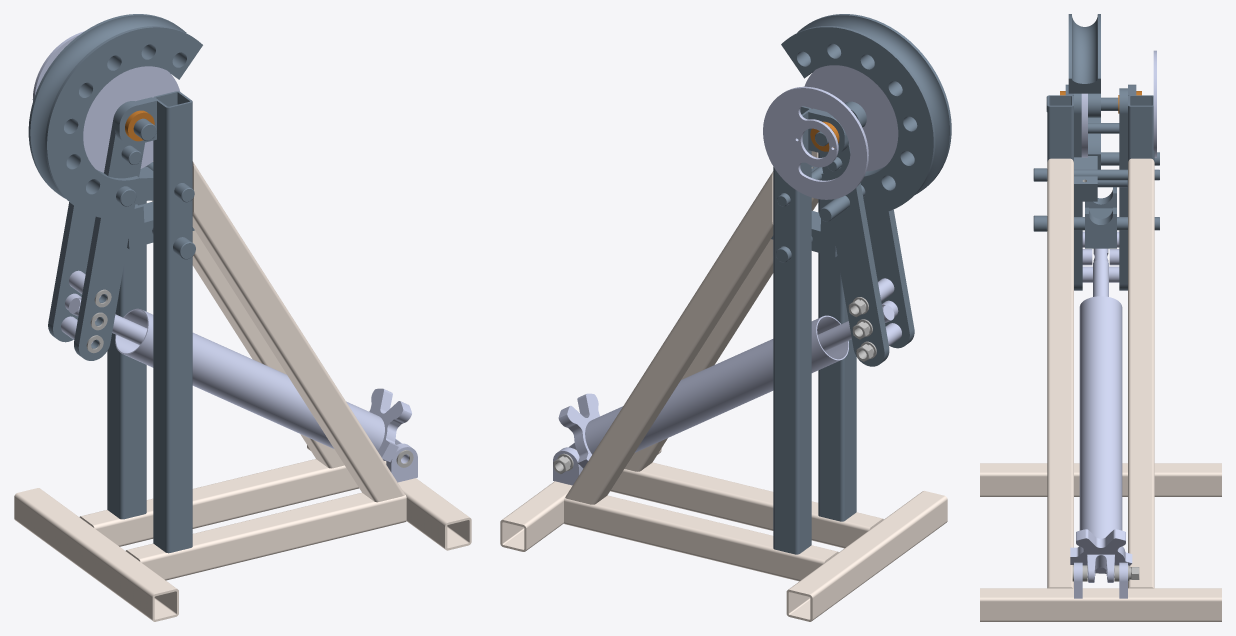
The model's file is Hydraulic_Pipe_Bending_Machine.glb.
3 renders of one model, left to right at view 1: azimuth 30°, elevation 25°; view 2: azimuth 150°, elevation 25°; view 3: azimuth 270°, elevation 25°, orthographic. The views are drawn at different scales.
Parts seen in each view (by area): view 1: Труба 50х50-1 (×2), ТР3848.01.00.01-1, Труба 50х50 подкос-1, Гильза цилиндра-1, Труба 50х50 продольная-1, Труба 50х50 продольная-2, Труба 50х50 поперечная-1, ТГ1.00.00.01-1, ТР3848.01.00.04-1, Труба 50х50 подкос-2, Труба 50х50 поперечная-2, ТГ1.00.00.01-2 (+4 smaller); view 2: Труба 50х50-1 (×2), ТР3848.01.00.01-1, Труба 50х50 подкос-2, Гильза цилиндра-1, Труба 50х50 продольная-2, Труба 50х50 продольная-1, Труба 50х50 поперечная-1, Угломер-1, ТГ1.00.00.01-2, ТР3848.01.00.04-1, Труба 50х50 подкос-1, ТГ1.00.00.01-1 (+5 smaller); view 3: Гильза цилиндра-1, Труба 50х50 подкос-1, Труба 50х50 подкос-2, Труба 50х50 поперечная-2, Труба 50х50 поперечная-1, Труба 50х50-1 (×2), ТР3848.01.00.01-1, ТР3848.00.00.01-2, ТГ1.00.00.01-2, ТГ1.00.00.01-1, ТР3848.01.00.03-1, ТГ1.00.00.03-4 (+6 smaller).
Part boxes in pixels (x1,y1,x2,y2): Труба 50х50-1 (×2): (107, 91, 192, 553); ТР3848.01.00.01-1: (28, 14, 202, 219); Труба 50х50 подкос-1: (192, 161, 405, 502); Гильза цилиндра-1: (115, 308, 411, 462); Труба 50х50 продольная-1: (126, 492, 406, 580); Труба 50х50 продольная-2: (79, 459, 358, 546); Труба 50х50 поперечная-1: (14, 488, 178, 621); ТГ1.00.00.01-1: (74, 101, 144, 360); ТР3848.01.00.04-1: (83, 66, 180, 172); Труба 50х50 подкос-2: (152, 161, 344, 468); Труба 50х50 поперечная-2: (307, 445, 471, 550); ТГ1.00.00.01-2: (48, 202, 95, 342); Труба 50х50-1 (×2): (773, 106, 856, 554); ТР3848.01.00.01-1: (781, 14, 951, 214); Труба 50х50 подкос-2: (565, 171, 773, 504); Гильза цилиндра-1: (558, 315, 848, 468); Труба 50х50 продольная-2: (564, 495, 838, 581); Труба 50х50 продольная-1: (610, 462, 883, 548); Труба 50х50 поперечная-1: (786, 491, 947, 621); Угломер-1: (763, 86, 868, 199); ТГ1.00.00.01-2: (819, 143, 889, 366); ТР3848.01.00.04-1: (804, 65, 898, 171); Труба 50х50 подкос-1: (624, 151, 818, 471); ТГ1.00.00.01-1: (866, 209, 914, 348); Гильза цилиндра-1: (1070, 296, 1132, 582); Труба 50х50 подкос-1: (1047, 158, 1073, 587); Труба 50х50 подкос-2: (1128, 158, 1154, 587); Труба 50х50 поперечная-2: (980, 588, 1221, 621); Труба 50х50 поперечная-1: (980, 463, 1221, 496); Труба 50х50-1 (×2): (1047, 95, 1154, 161); ТР3848.01.00.01-1: (1068, 14, 1100, 169); ТР3848.00.00.01-2: (1085, 187, 1116, 248); ТГ1.00.00.01-2: (1119, 88, 1127, 290); ТГ1.00.00.01-1: (1074, 93, 1082, 290); ТР3848.01.00.03-1: (1074, 156, 1097, 201); ТГ1.00.00.03-4: (1033, 168, 1159, 181).
Bounding box in the file's own units: 0.703 × 0.983 × 0.45.
